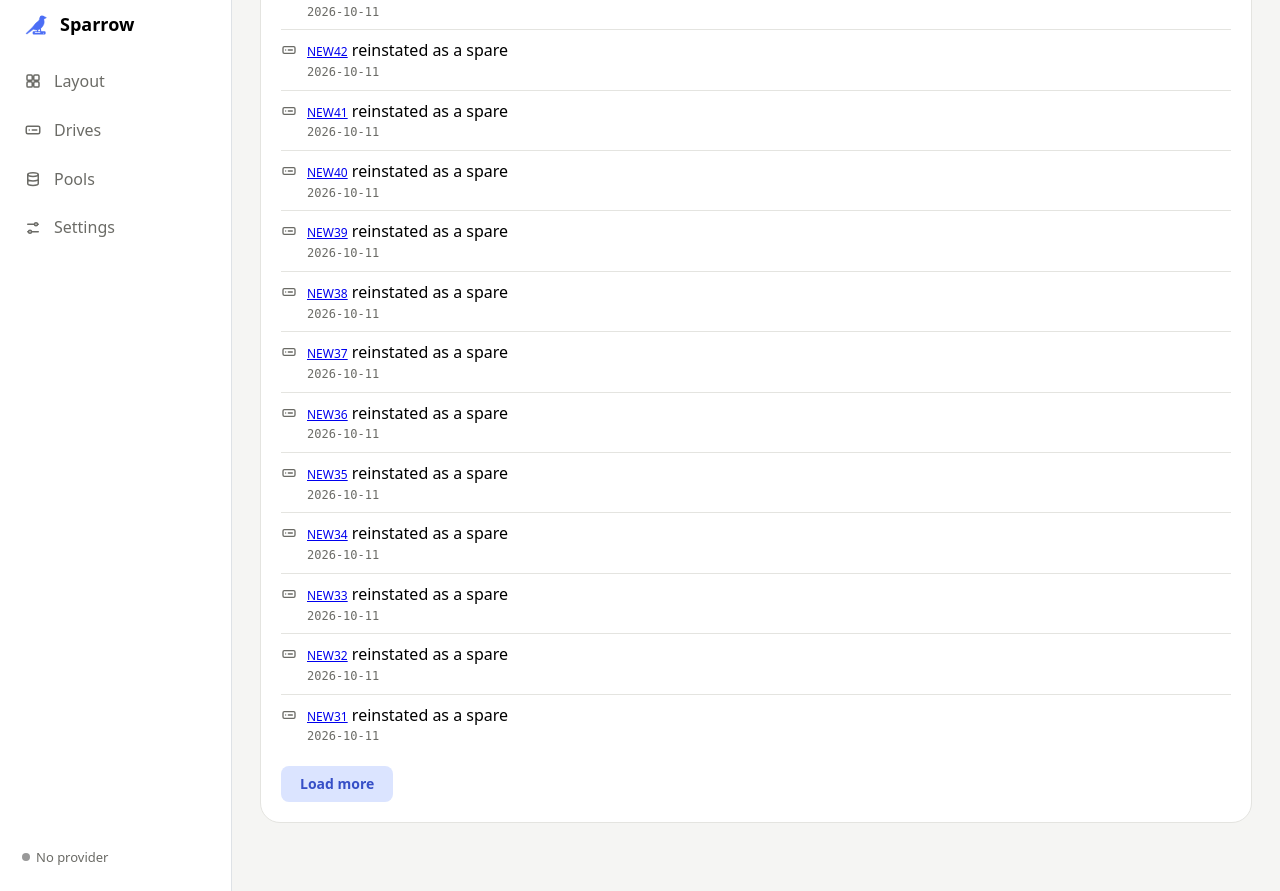
Test: R75: the /activity page › R75: Load more pages with the oldest seq as the exclusive cursor and stops on a short page
(page scrolled)
Click the button "Load more" at (337, 784), box [281,766,393,802]
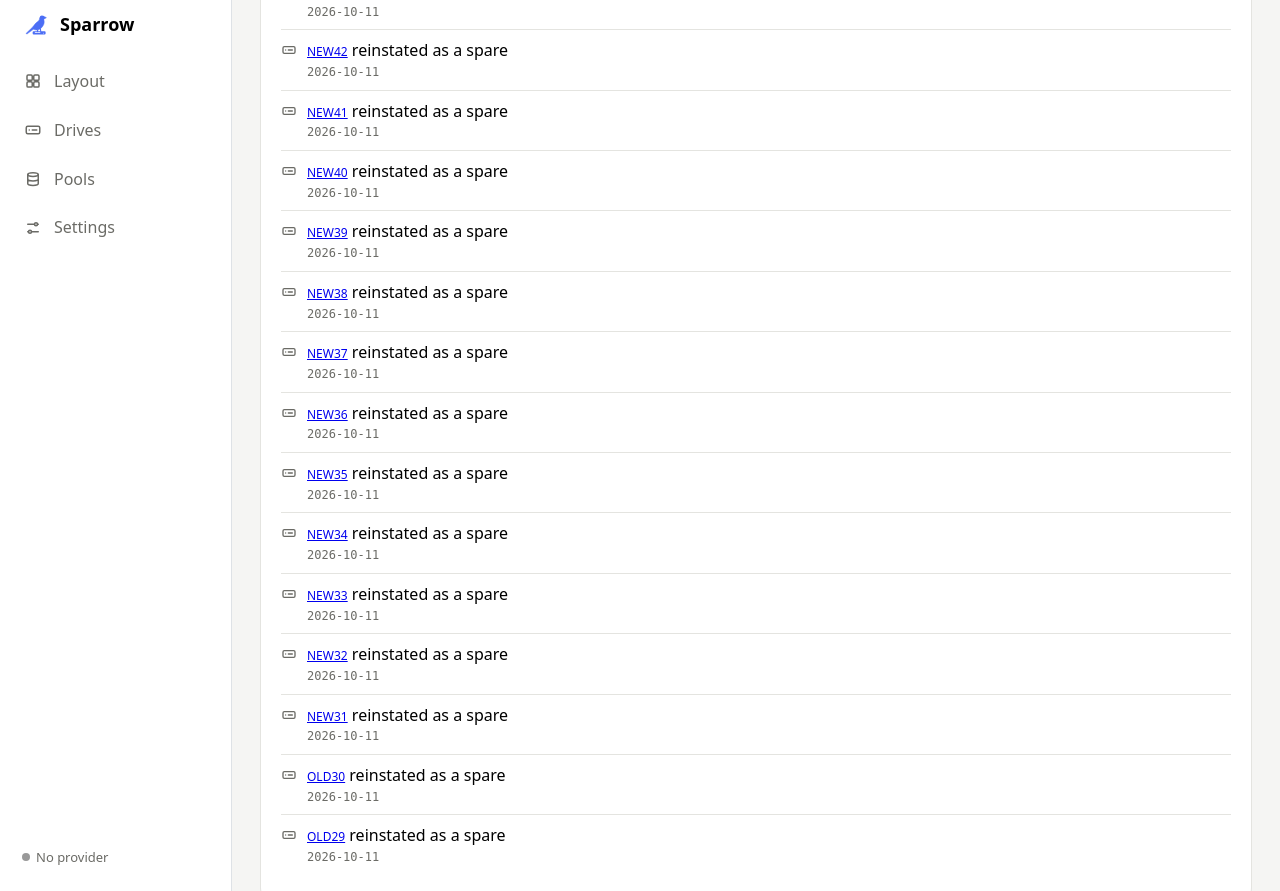
Now the link "OLD29" is shown, box [307,828,345,845]
Now the button "Load more" is gone
